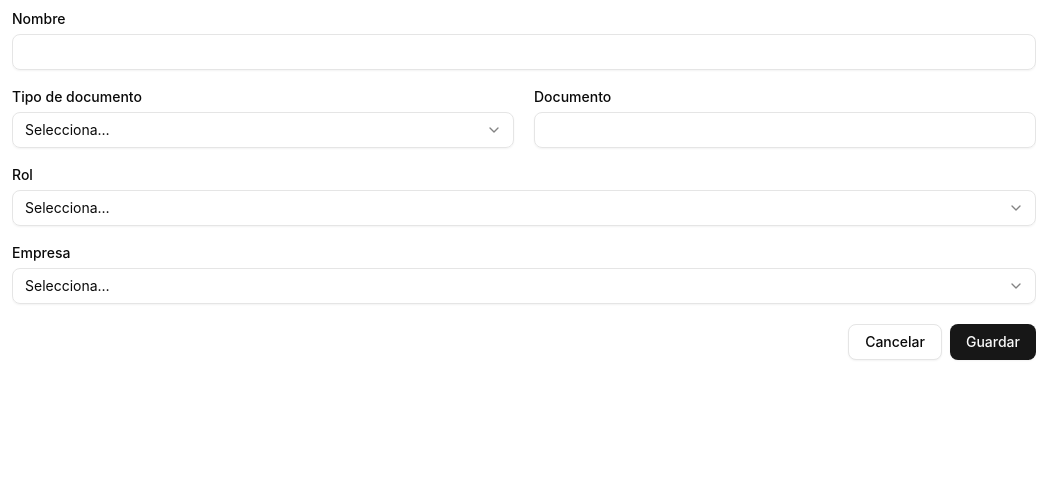
Test: EmployeeForm › muestra los errores de validación junto a cada campo y no envía
Type "A-1" into the field labelled "Documento" at (785, 130), box [534,112,1036,148]
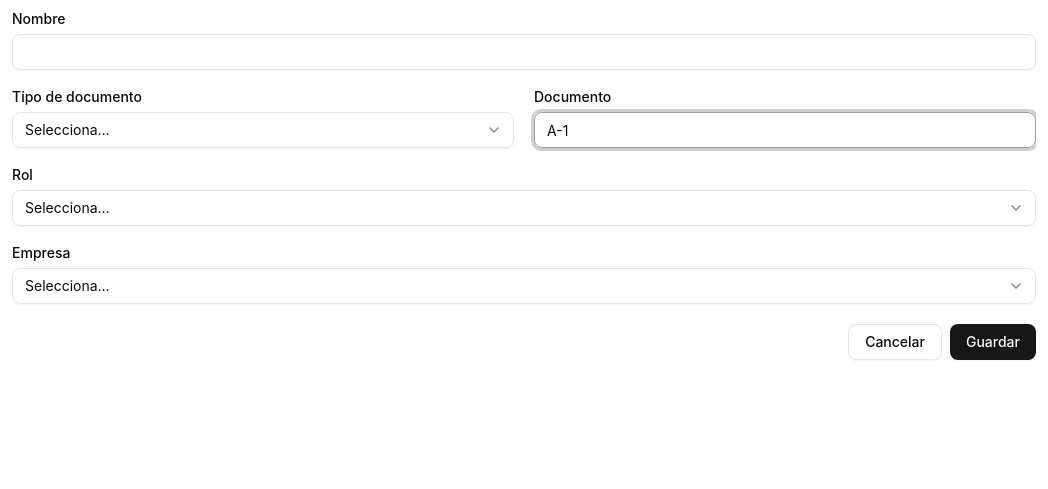
Click the button "Guardar" at (993, 342), box [950,324,1036,360]
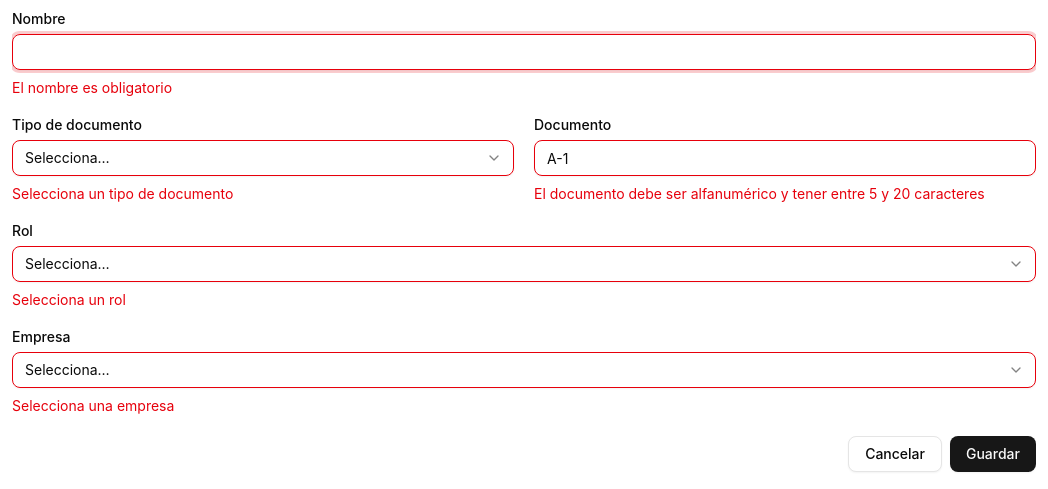
Result: the text "El nombre es obligatorio" is shown at [12,79,172,96]
Result: the text "El documento debe ser alfanumérico y tener entre 5 y 20 caracteres" is shown at [534,184,1036,204]
Result: the text "Selecciona un tipo de documento" is shown at [12,185,233,202]
